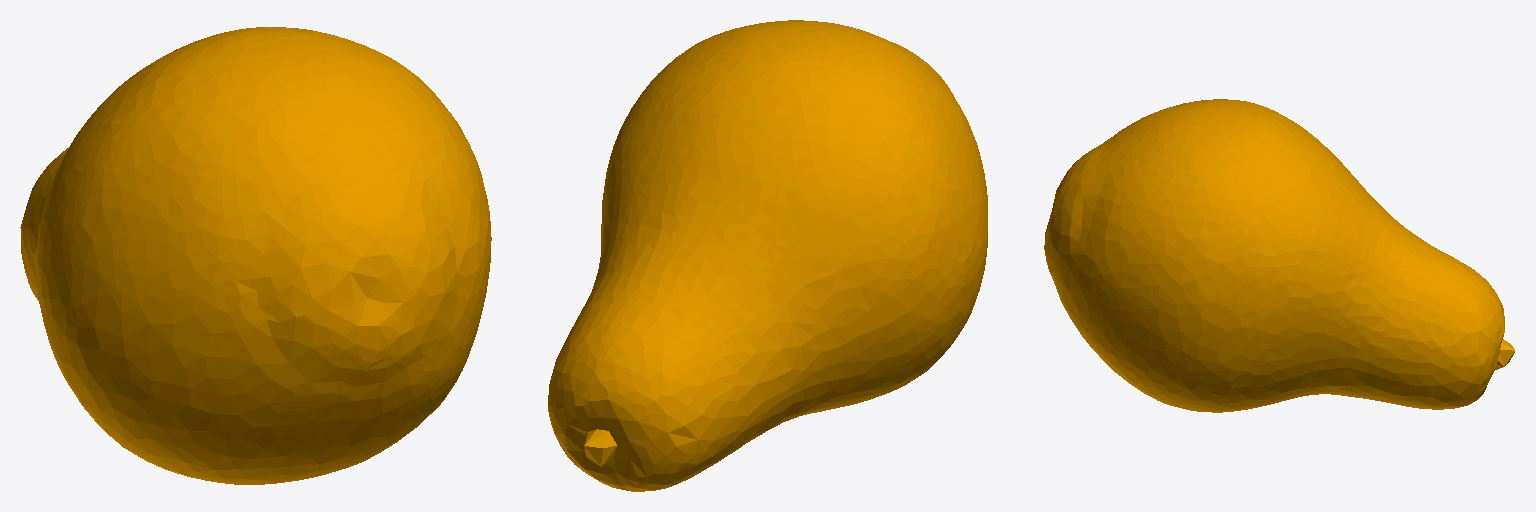
robot.urdf — pear:
<?xml version="1.0" encoding="UTF-8"?>
<robot name="pear">
	<link name="base">
		<collision>
			<geometry>
				<mesh filename="pear.obj"/>
			</geometry>
			<origin xyz="0 0 0"/>
		</collision>
		<visual>
			<geometry>
				<mesh filename="pear.obj"/>
			</geometry>
			<origin xyz="0 0 0"/>
		</visual>
		<inertial>
			<mass value="0.049"/>
			<inertia ixx="3.2877330523109e-05" ixy="-8.91987806822454e-07" ixz="-3.687657981855989e-08" iyy="2.1213031718074736e-05" iyz="4.1919253459607314e-06" izz="3.148255274168535e-05" />
			<origin xyz="0.0007770852328372718 -0.006922044553195335 -0.0026083511028832155"/>
		</inertial>
	</link>
</robot>

--- Render facts (derived) ---
Views: 3 orthographic renders of the robot side by side, from view 1: azimuth 30°, elevation 25°; view 2: azimuth 150°, elevation 25°; view 3: azimuth 270°, elevation 25°.
Model pear with 1 links and 0 joints (none), rooted at base, posed every joint at zero.
Visible links, largest first — view 1: base; view 2: base; view 3: base.
Link boxes in pixels (x1,y1,x2,y2): base: (20, 27, 491, 484); base: (548, 20, 987, 491); base: (1044, 99, 1514, 412).
Bounding box of the posed robot: 0.0665 × 0.1007 × 0.0657 m (x, y, z).
1 mesh visuals loaded from 1 distinct referenced files (1 OBJ).